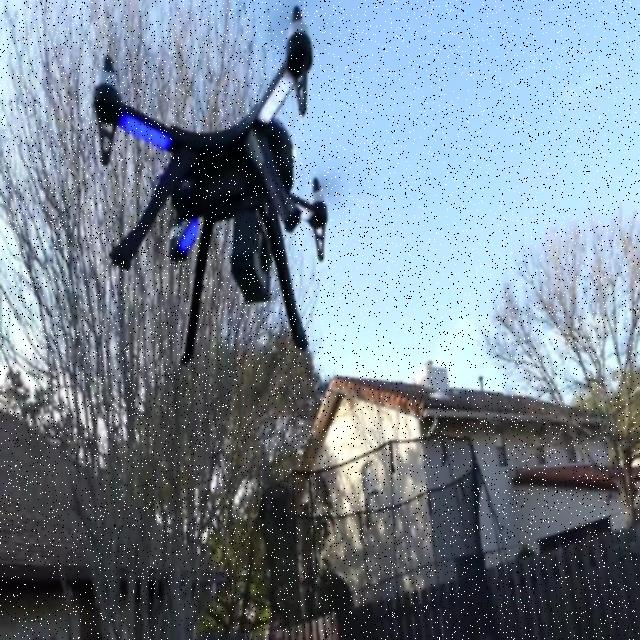UAV: (93, 4, 345, 369)
